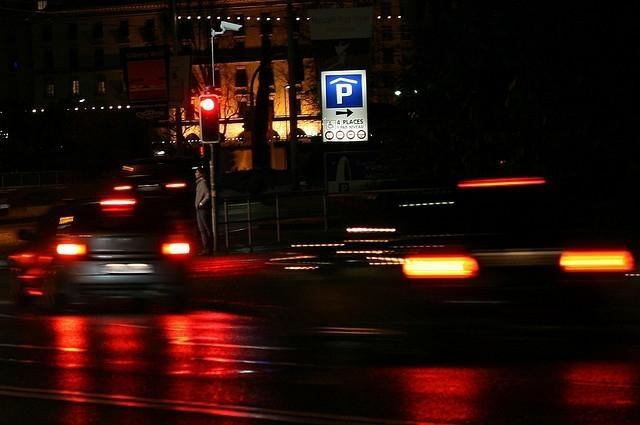car: (366, 160, 640, 294), (8, 198, 190, 314), (96, 156, 202, 217)
